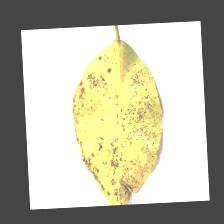canker: (79, 66, 158, 176)
